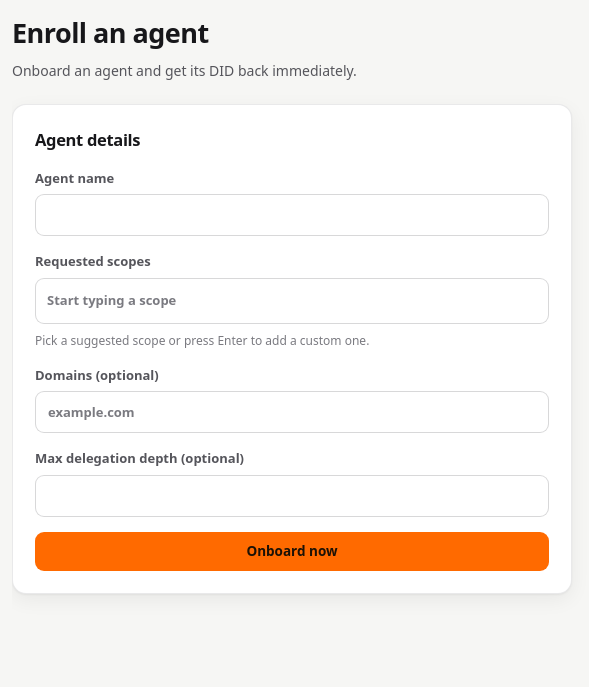
Test: EnrollPage › shows an error when onboarding fails and keeps the form
Type "billing-agent" into the field labelled "Agent name" at (292, 215), box [35,194,549,236]
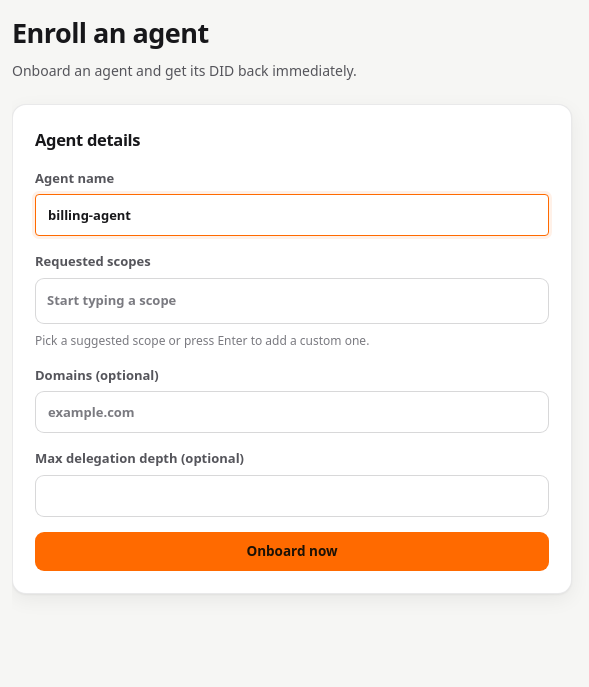
Type "bogus" into the field labelled "Requested scopes" at (292, 300), box [45,286,539,314]
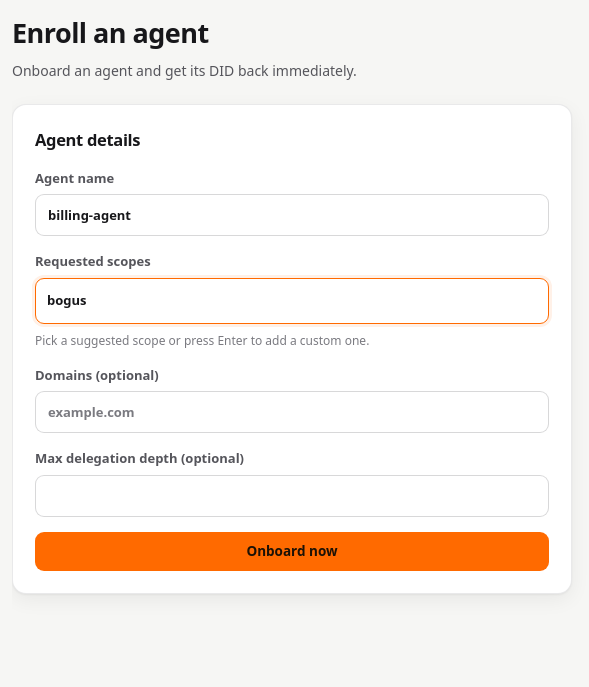
Click the button "Onboard now" at (292, 551), box [35,532,549,571]
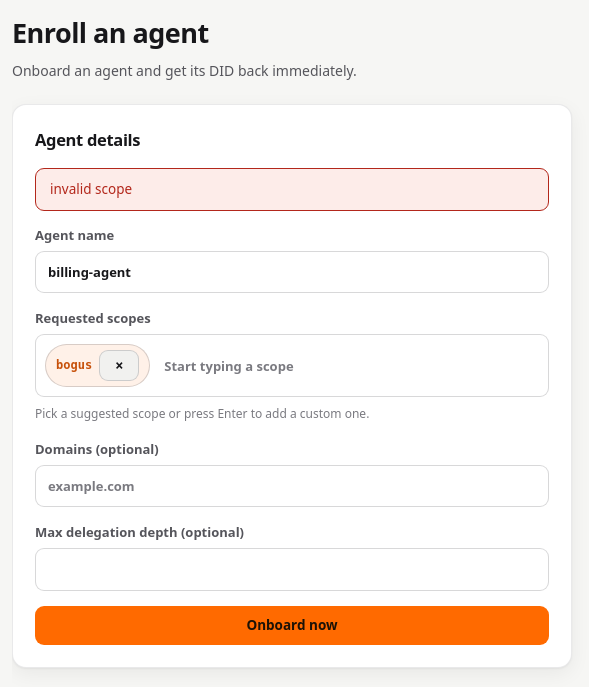
Expected: the message reads "invalid scope", [50,180,132,198]
